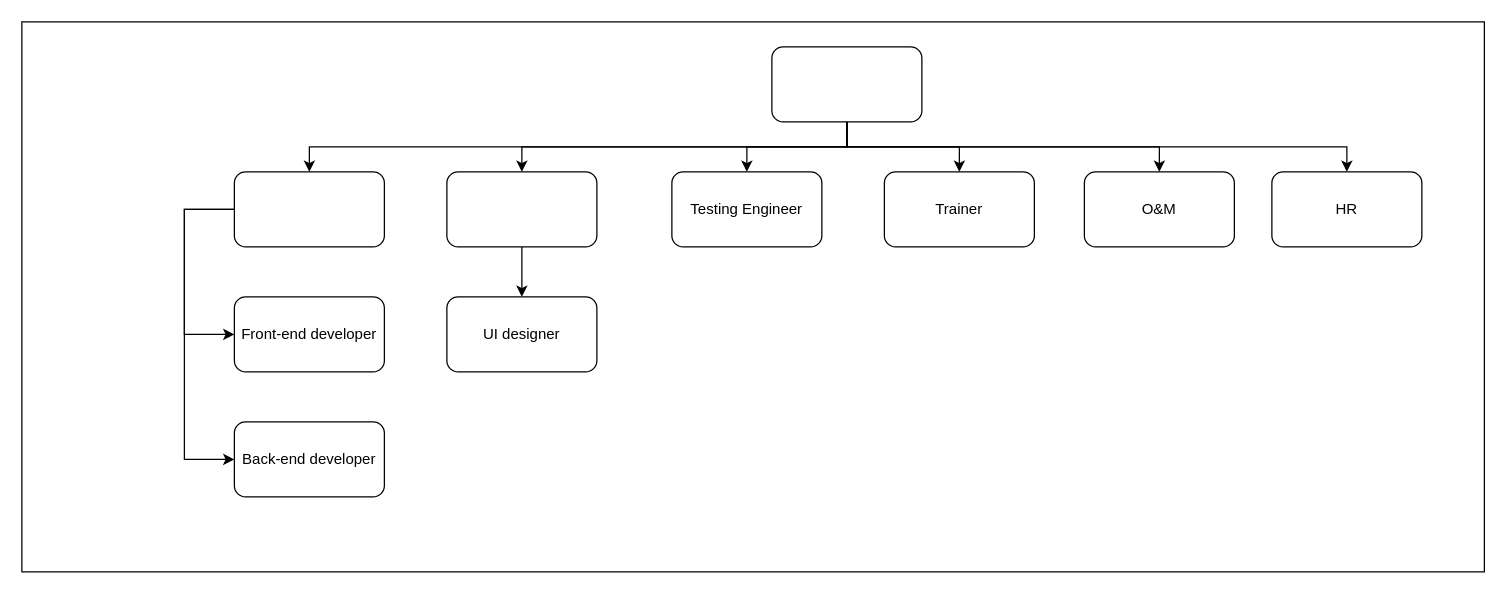
Image size: 1506x594. Some labels were removed from this diagram. Here are the shapes that lost their labels. From the top down, the centre of each, then its label:
(846,84): Project Manager
(308,209): Principle Developer
(521,209): Principle Engineer
